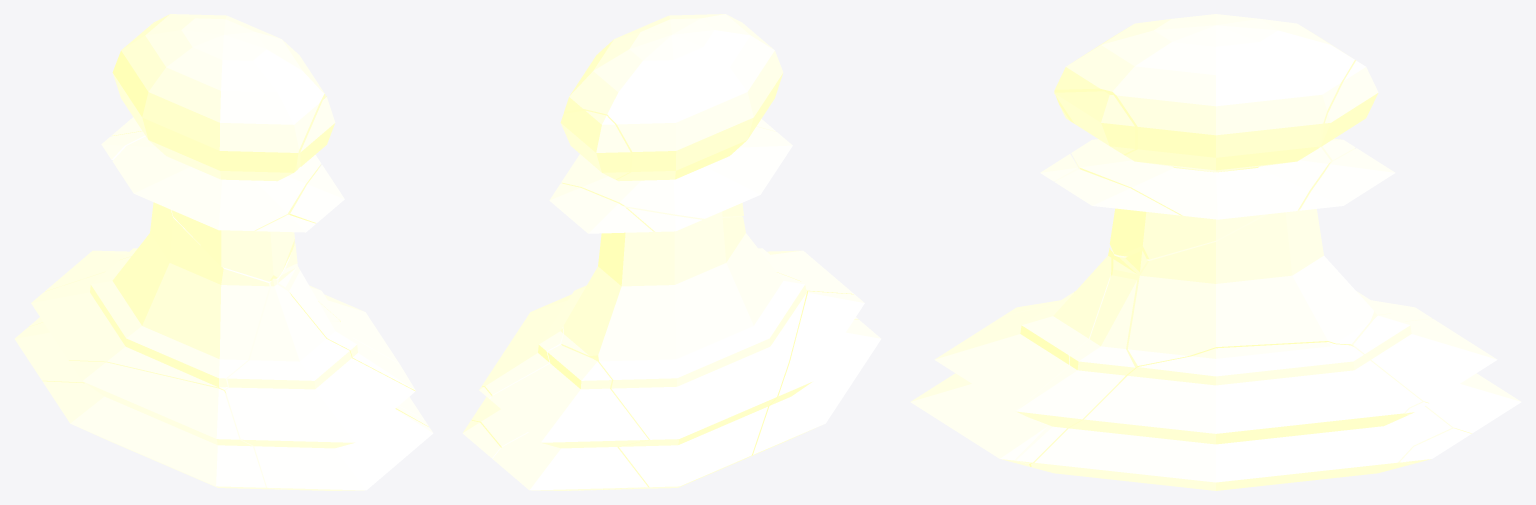
Rendered from BrokenPawn2.fbx.
3 views of the same model, side by side, from view 1: azimuth 30°, elevation 25°; view 2: azimuth 150°, elevation 25°; view 3: azimuth 270°, elevation 25° (orthographic). The views are drawn at different scales.
Parts seen in each view (by area): view 1: Pawn_001_cell.007, Pawn_001_cell.001, Pawn_001_cell, Pawn_001_cell.003, Pawn_001_cell.002, Pawn_001_cell.006, Pawn_001_cell.009, Pawn_001_cell.005, Pawn_001_cell.010, Pawn_001_cell.008; view 2: Pawn_001_cell.001, Pawn_001_cell.007, Pawn_001_cell.005, Pawn_001_cell.003, Pawn_001_cell.006, Pawn_001_cell.014, Pawn_001_cell.013, Pawn_001_cell, Pawn_001_cell.012; view 3: Pawn_001_cell.007, Pawn_001_cell.006, Pawn_001_cell.001, Pawn_001_cell, Pawn_001_cell.005, Pawn_001_cell.002, Pawn_001_cell.013, Pawn_001_cell.010, Pawn_001_cell.014, Pawn_001_cell.009, Pawn_001_cell.012.
Boxes of the visible parts, x1,y1,x2,y2 form: Pawn_001_cell.007: [112, 14, 325, 281]; Pawn_001_cell.001: [14, 131, 339, 393]; Pawn_001_cell: [225, 278, 433, 490]; Pawn_001_cell.003: [42, 360, 281, 489]; Pawn_001_cell.002: [289, 270, 428, 426]; Pawn_001_cell.006: [309, 285, 424, 419]; Pawn_001_cell.009: [290, 165, 344, 223]; Pawn_001_cell.005: [29, 248, 137, 326]; Pawn_001_cell.010: [300, 96, 335, 166]; Pawn_001_cell.008: [255, 214, 315, 232]; Pawn_001_cell.001: [561, 206, 806, 489]; Pawn_001_cell.007: [561, 14, 792, 218]; Pawn_001_cell.005: [490, 345, 648, 490]; Pawn_001_cell.003: [744, 291, 881, 459]; Pawn_001_cell.006: [471, 285, 602, 490]; Pawn_001_cell.014: [560, 110, 630, 179]; Pawn_001_cell.013: [549, 183, 653, 233]; Pawn_001_cell: [758, 248, 858, 319]; Pawn_001_cell.012: [462, 420, 500, 458]; Pawn_001_cell.007: [1054, 14, 1356, 259]; Pawn_001_cell.006: [1031, 342, 1452, 490]; Pawn_001_cell.001: [1074, 138, 1432, 378]; Pawn_001_cell: [910, 248, 1112, 466]; Pawn_001_cell.005: [1353, 313, 1521, 433]; Pawn_001_cell.002: [1016, 275, 1136, 463]; Pawn_001_cell.013: [1299, 148, 1395, 210]; Pawn_001_cell.010: [1054, 91, 1134, 154]; Pawn_001_cell.014: [1320, 60, 1378, 146]; Pawn_001_cell.009: [1055, 169, 1180, 215]; Pawn_001_cell.012: [1400, 428, 1470, 463].
Bounding box in the file's own units: 59.33 × 69.68 × 95.28.
